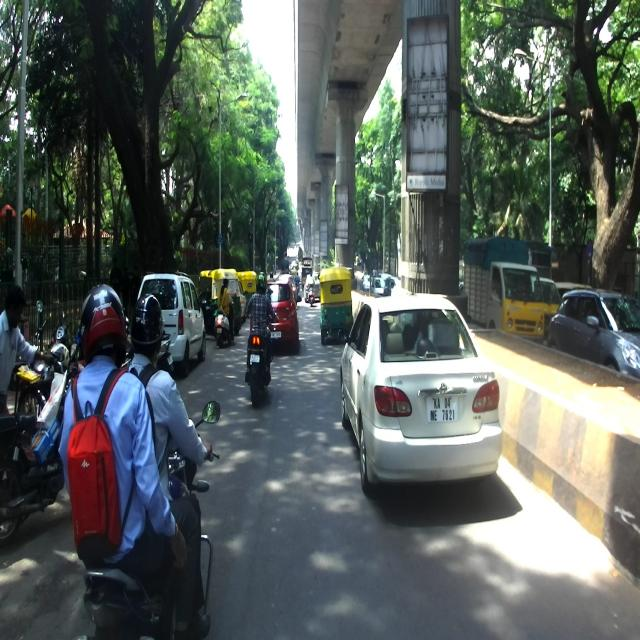car: (338, 293, 502, 493), (546, 288, 640, 378), (138, 270, 206, 377)
motorcycle: (66, 396, 221, 640), (0, 342, 81, 549), (242, 308, 277, 407)
